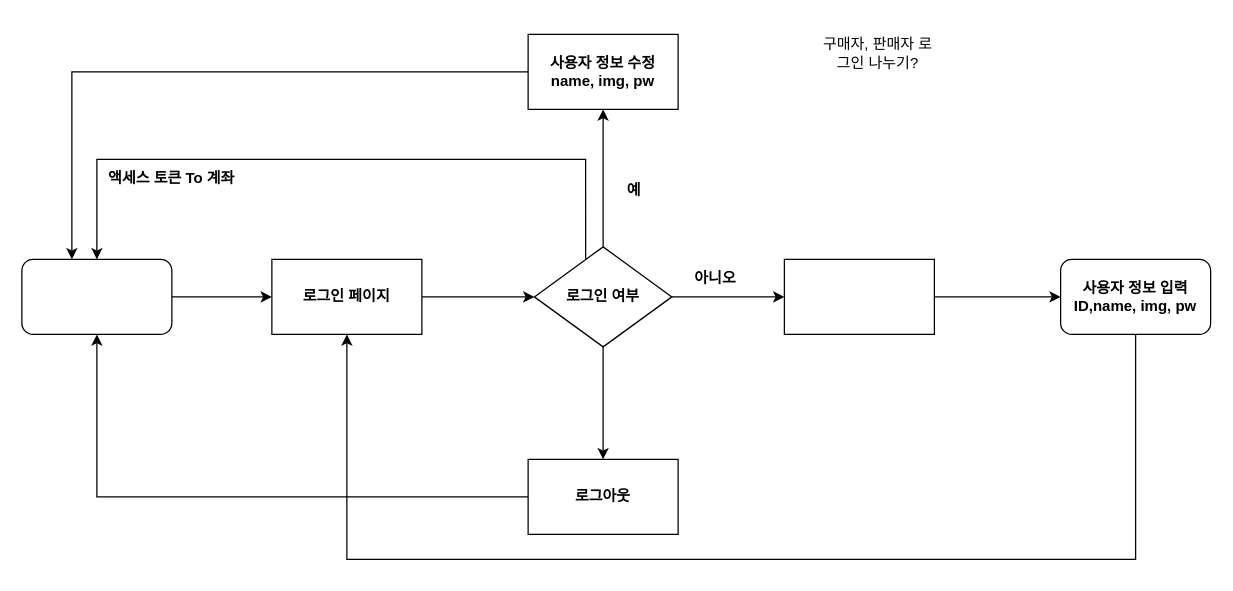
Some shapes in this 1233 by 591 pixel diagram are drawn without their labels. The shapes that lost their labels are listed below. From the top down, each one's box as (x1, y1, x2, y2) in pixels, then its label:
(21, 258, 172, 334): 홈페이지 메인
(783, 258, 934, 334): 회원가입 페이지
